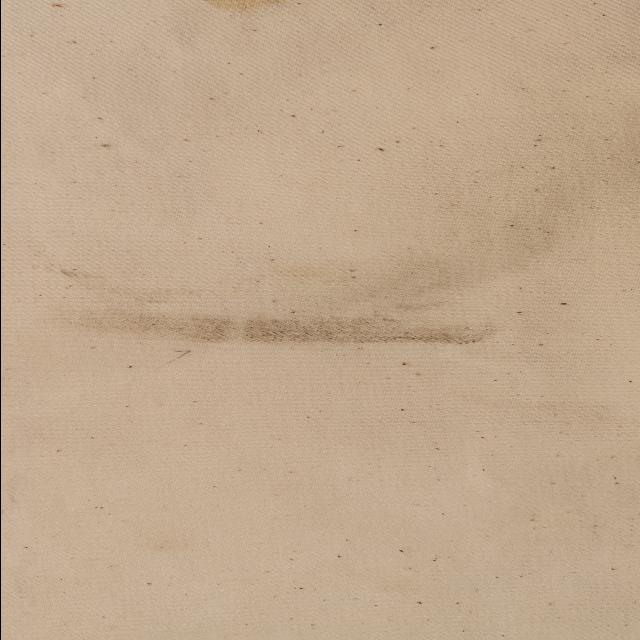taaaches: (11, 245, 540, 367), (153, 0, 379, 30)
